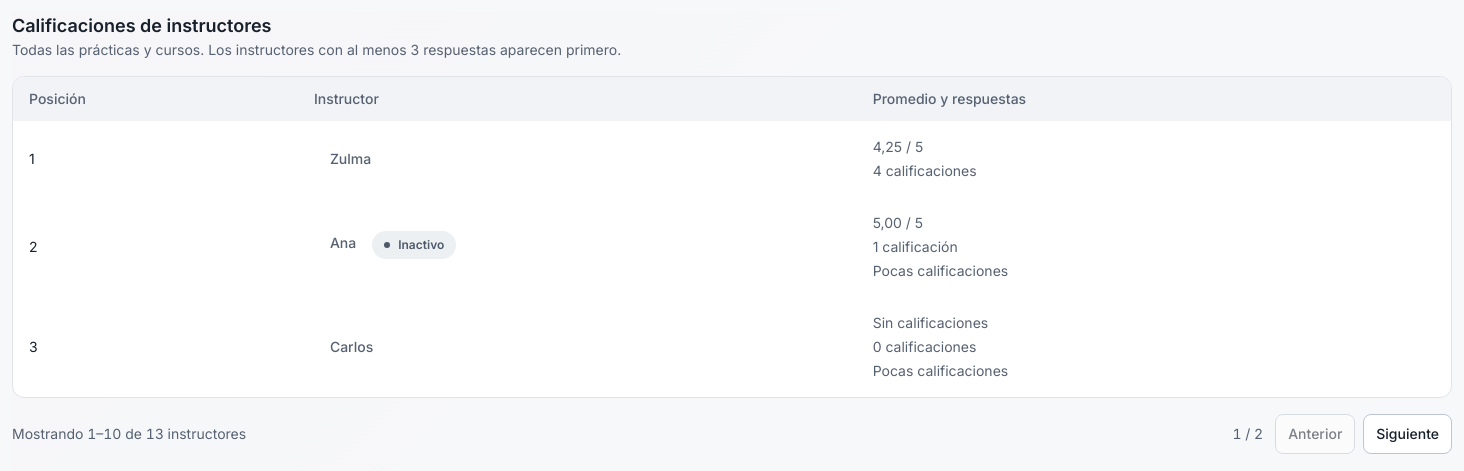
it: Ranking administrativo de calificaciones › pagina el ranking y mantiene la posición global
Click the button "Siguiente" at [1408, 434], box 1363,414 -> 1452,454
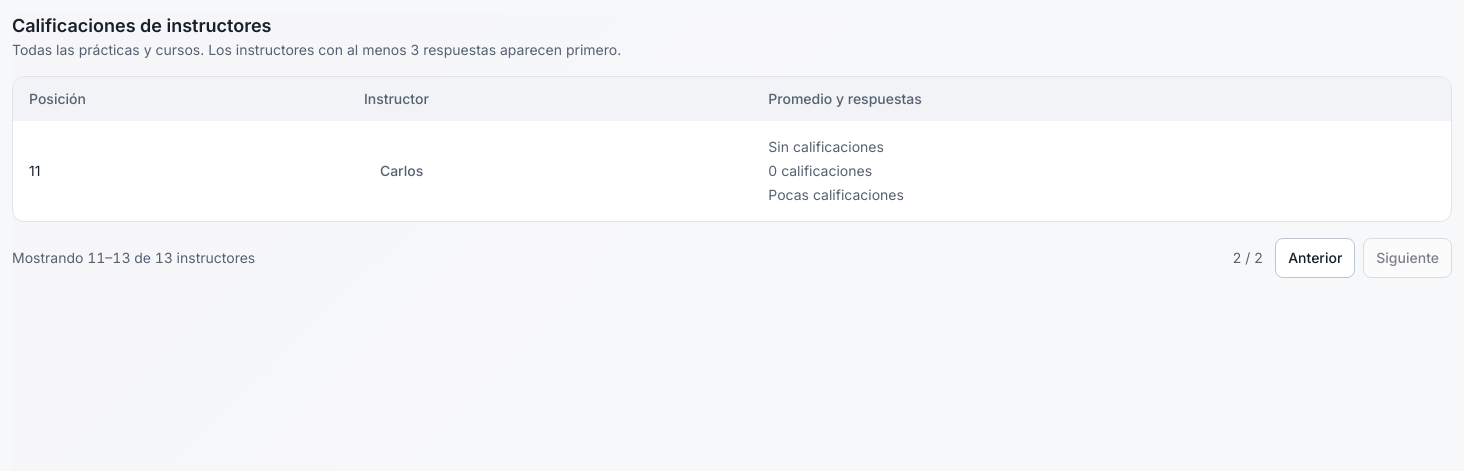
Expected: the column heading "11" is shown, 13,121 -> 348,221
